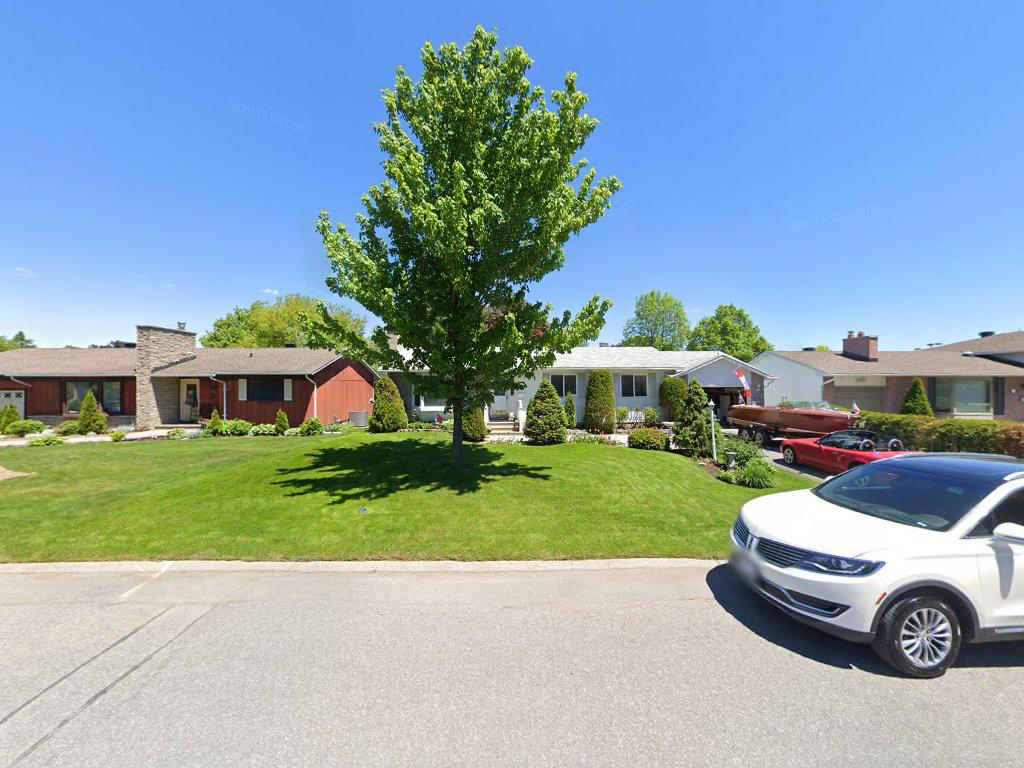trunk: (451, 377, 466, 452)
